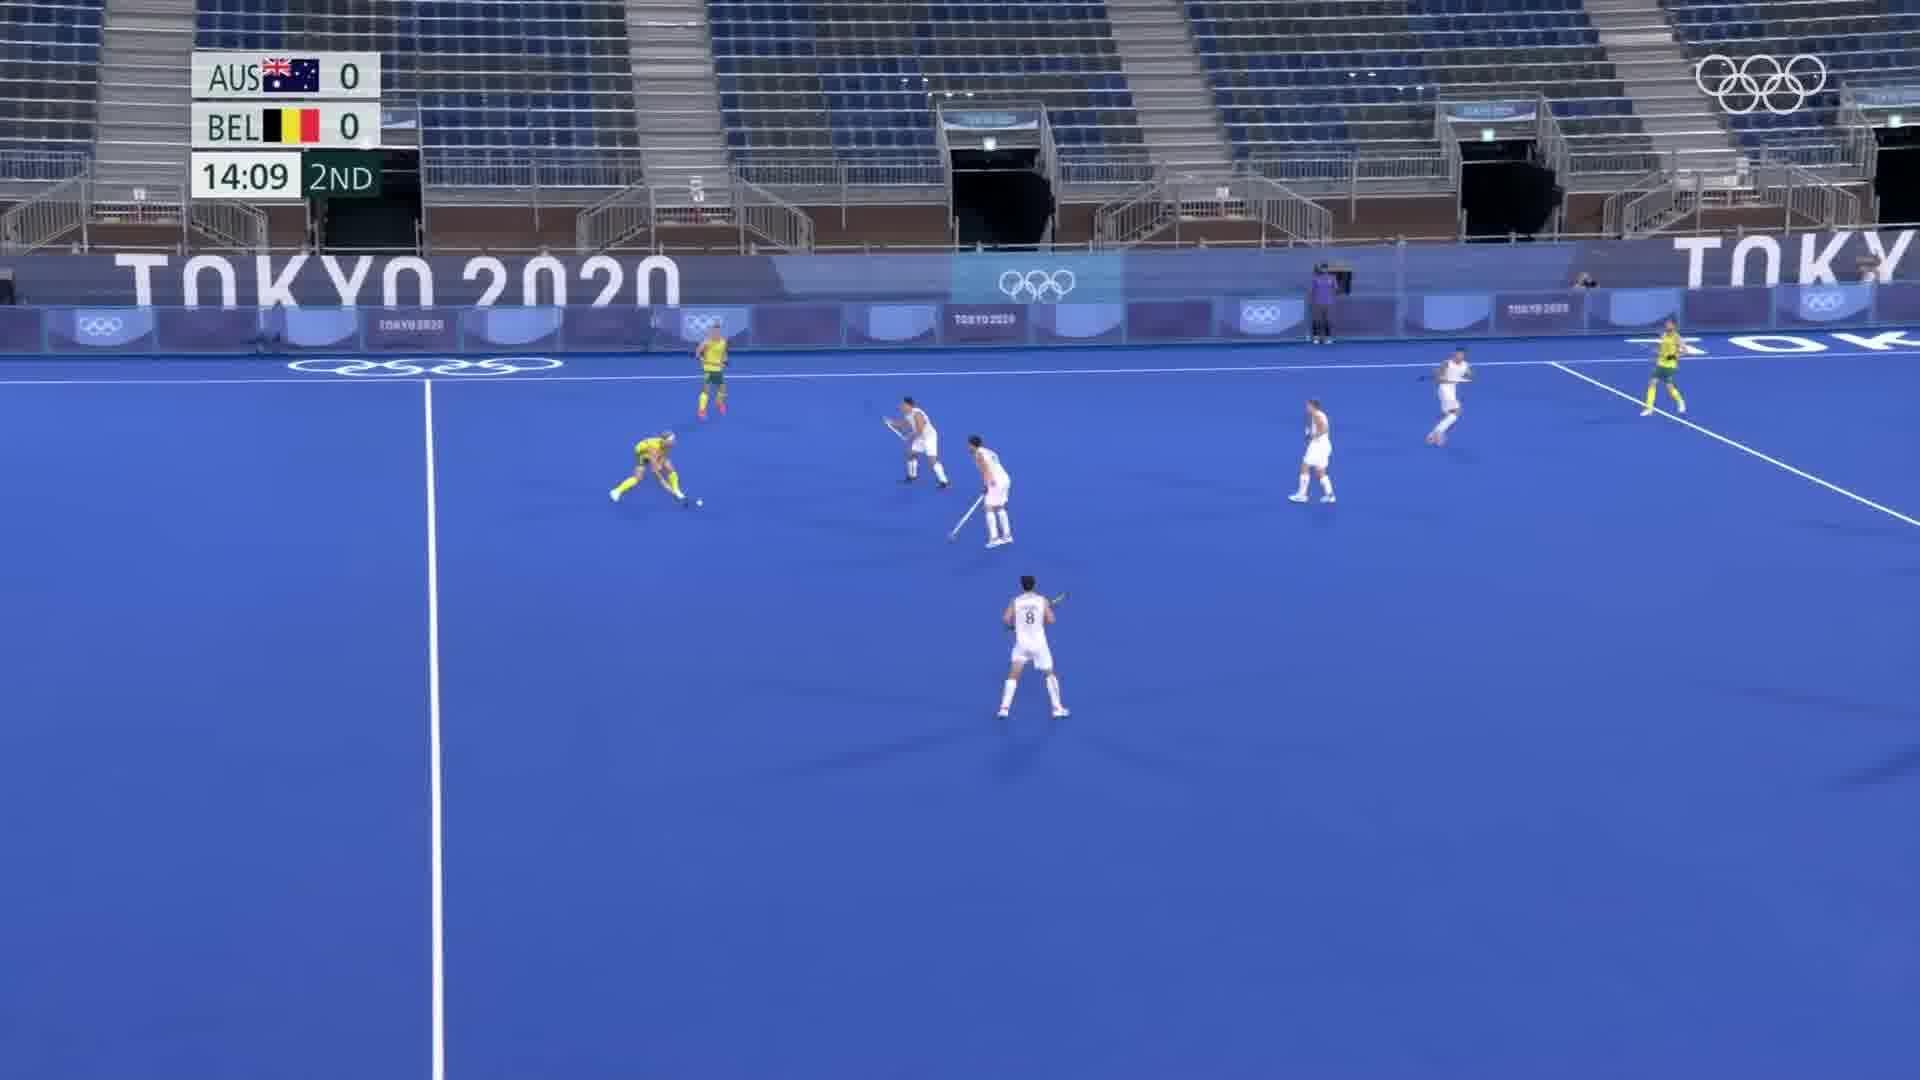ball: (694, 498, 707, 509)
